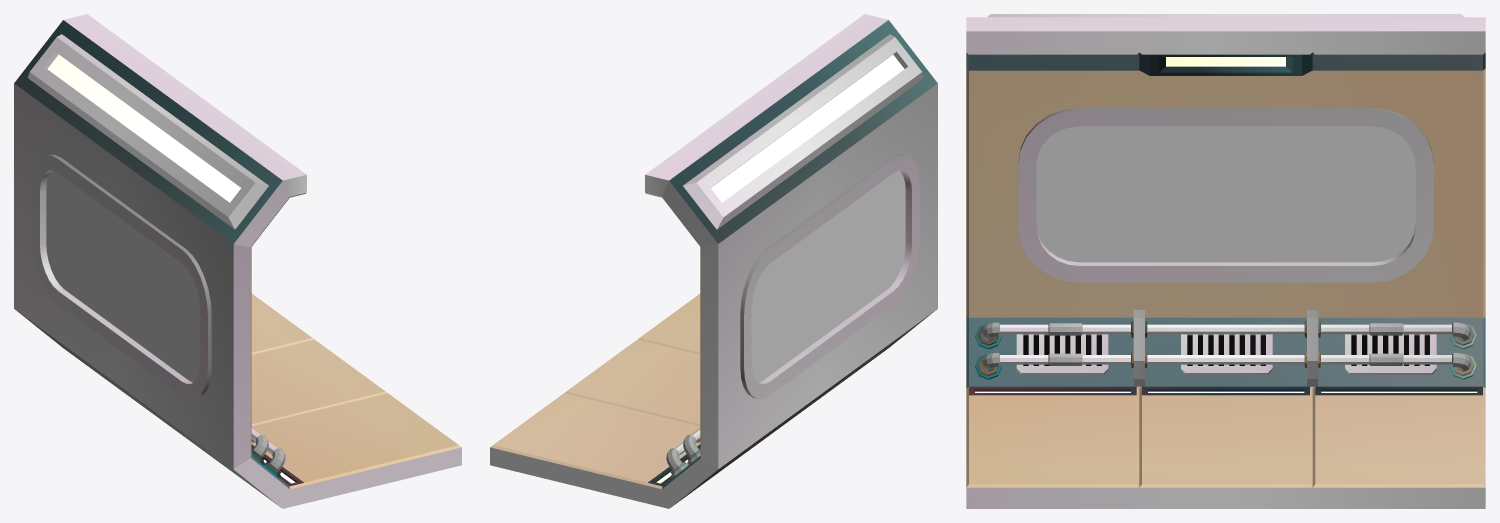
Rendered from C_Window_NoCeiling.fbx.
The picture shows the model from 3 angles, left to right: view 1: azimuth 30°, elevation 25°; view 2: azimuth 150°, elevation 25°; view 3: azimuth 270°, elevation 25°; orthographic projection. The views are drawn at different scales.
Parts seen in each view (by area): view 1: C_Window_NoCeiling; view 2: C_Window_NoCeiling; view 3: C_Window_NoCeiling.
Boxes of the visible parts, left/top/right/bottom form: C_Window_NoCeiling: left=14, top=14, right=461, bottom=508; C_Window_NoCeiling: left=490, top=14, right=937, bottom=508; C_Window_NoCeiling: left=966, top=14, right=1485, bottom=508.
Bounding box in the file's own units: 244 × 330 × 400.
